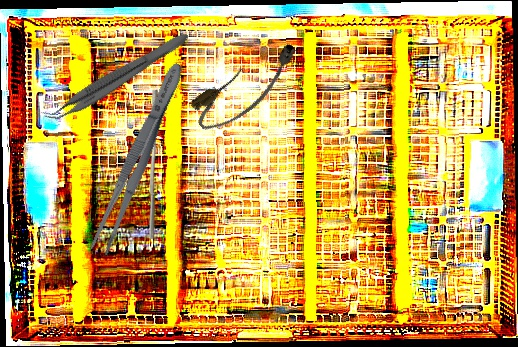Cannula: (185, 36, 310, 139)
Dressing Forceps: (86, 58, 191, 258)
Pusher: (146, 89, 161, 240)
Tissue Forceps: (40, 22, 192, 132)
